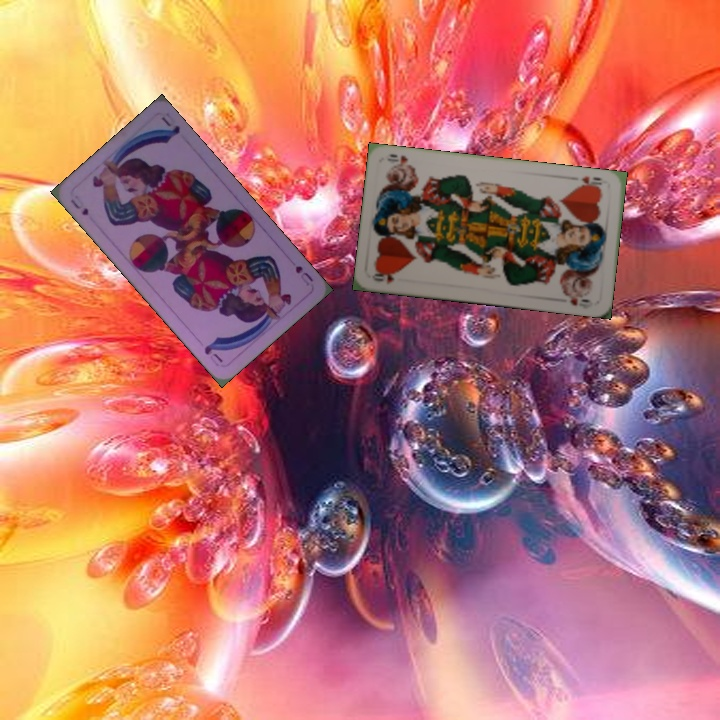HO: (573, 172, 604, 192), (368, 268, 397, 287)
SU: (291, 262, 315, 288), (66, 195, 91, 218)
